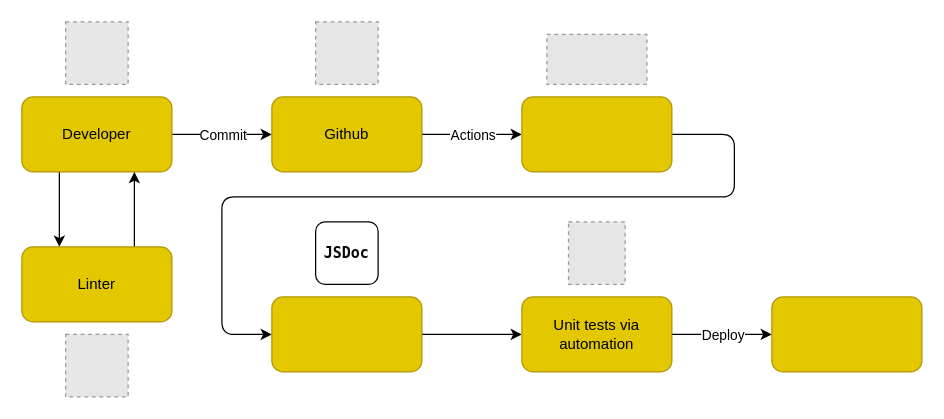
Some shapes in this 944 by 419 pixel diagram are drawn without their labels. Grey dashed boxes stand in for pictures. The shapes that lost their labels are listed below. From the top down, each one's centre as x and y in pixels, then its label:
pixel 596 134: Code quality check via tool
pixel 346 334: Documentation Generation
pixel 846 334: Production
